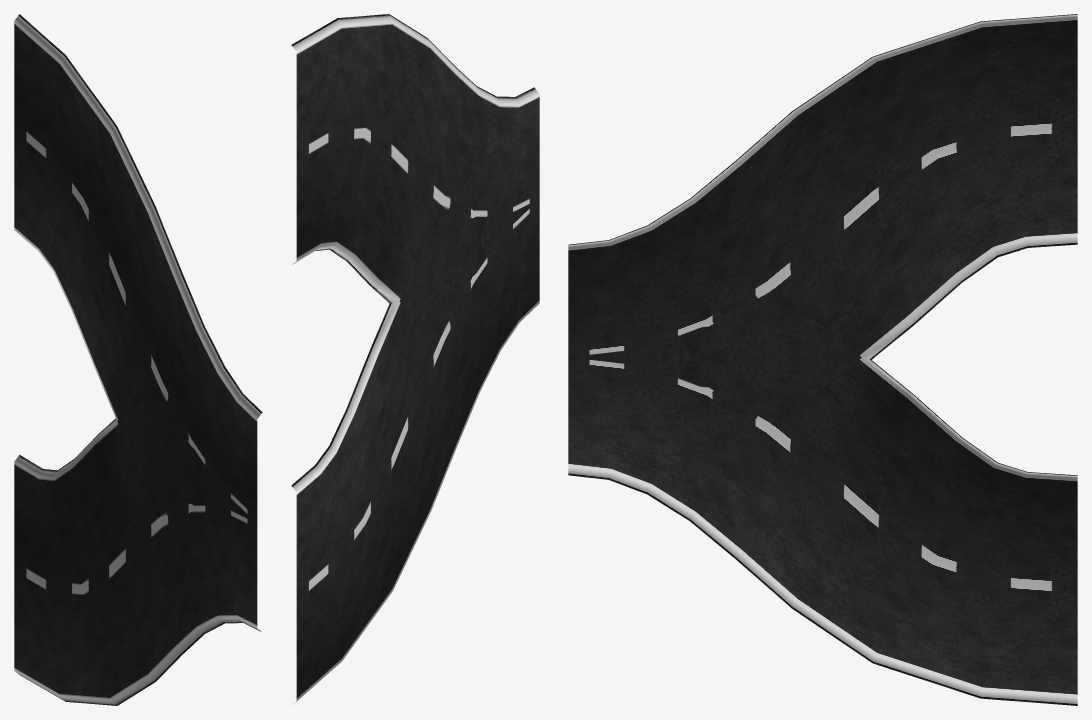
File: RoadSplitter.fbx
3 views of the same model, side by side, from view 1: azimuth 30°, elevation 25°; view 2: azimuth 150°, elevation 25°; view 3: azimuth 270°, elevation 25° (orthographic). The views are drawn at different scales.
Visible parts, largest first — view 1: sbendRight2; view 2: sbendRight2; view 3: sbendRight2.
Part boxes in pixels (x1,y1,x2,y2): sbendRight2: (14, 14, 262, 705); sbendRight2: (291, 14, 539, 704); sbendRight2: (568, 14, 1077, 705).
Bounding box in the file's own units: 50 × 6000 × 4000.
Materials: 1 (1 with a texture image).
